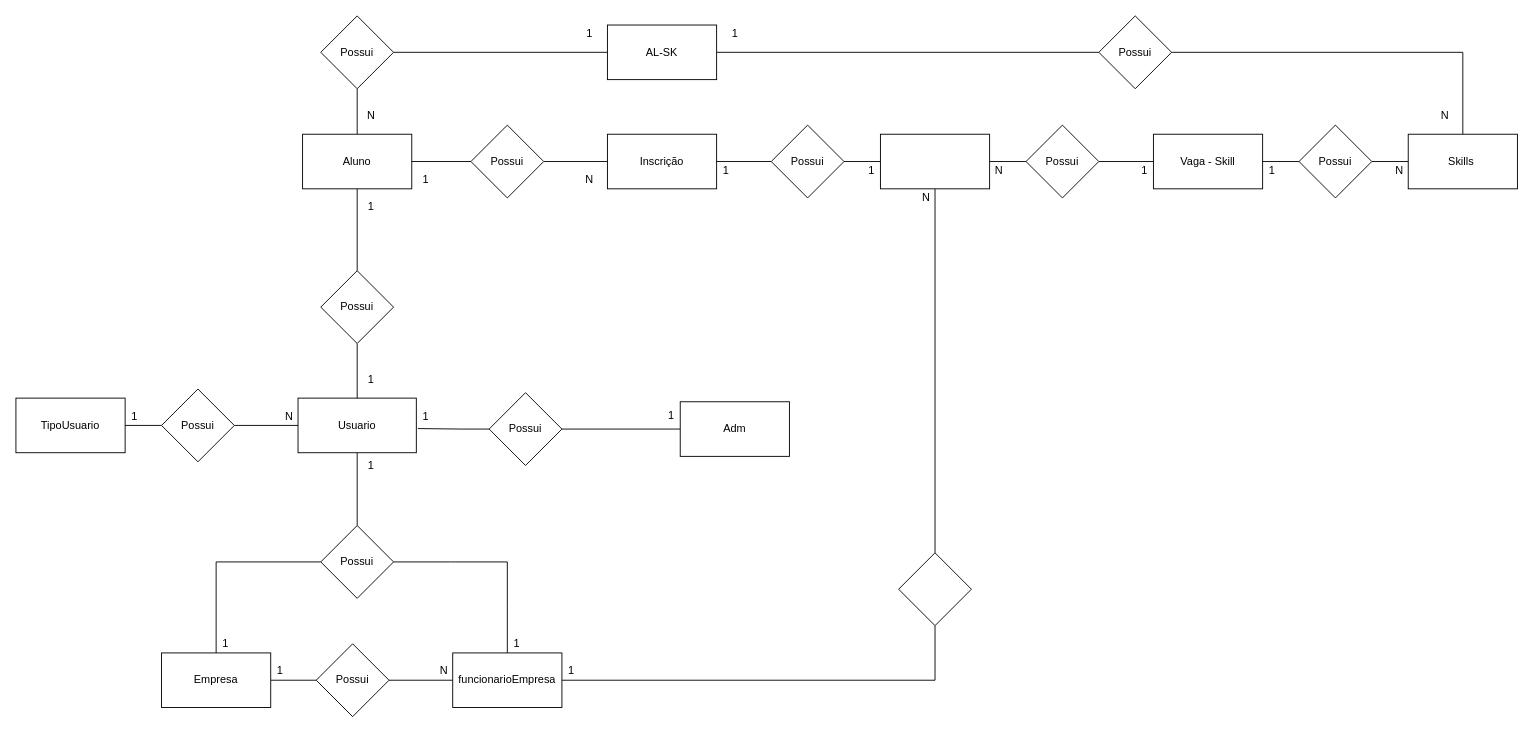
Image size: 1533x733. Some labels were removed from this diagram. Each missing label, with the box of its shape:
Publica: (898, 552, 971, 626)
Vaga: (880, 133, 990, 189)
